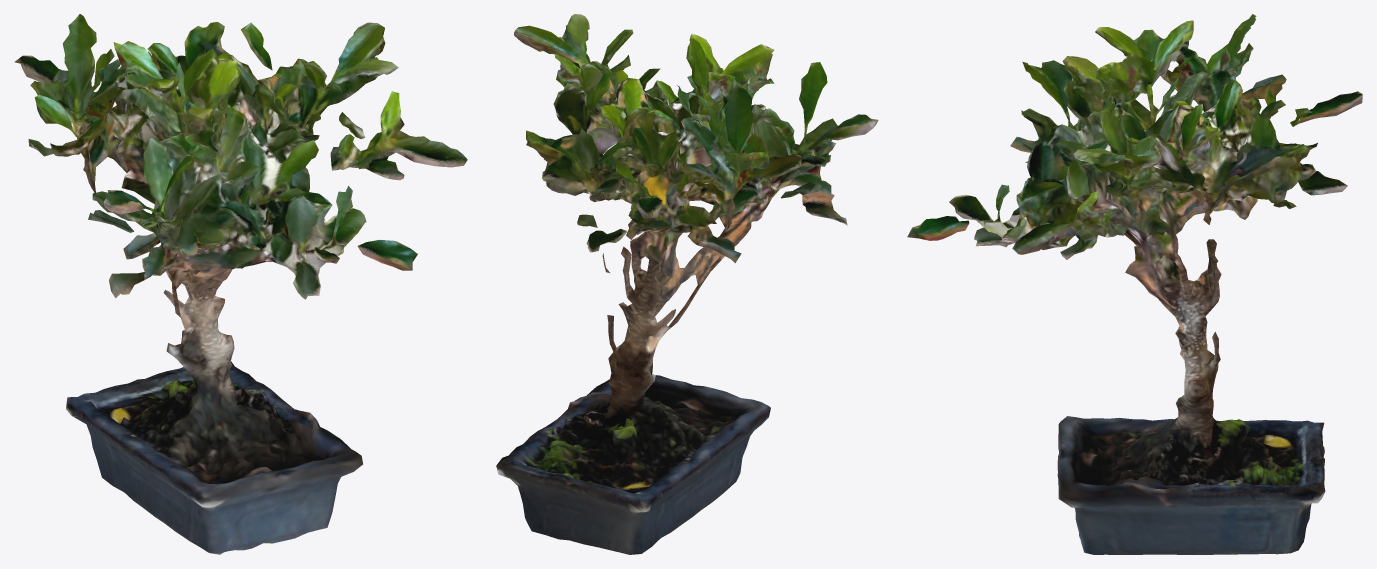
File: bonsai2.glb
3 views of the same model, side by side, from view 1: azimuth 30°, elevation 25°; view 2: azimuth 150°, elevation 25°; view 3: azimuth 270°, elevation 25° (orthographic). The views are drawn at different scales.
Parts seen in each view (by area): view 1: Object_4; view 2: Object_4; view 3: Object_4.
Part boxes in pixels (bbox=[...]): Object_4: bbox=[14, 14, 467, 554]; Object_4: bbox=[496, 14, 878, 554]; Object_4: bbox=[907, 14, 1362, 554].
Bounding box in the file's own units: 0.2109 × 0.2811 × 0.2495.
Materials: 1 (1 with a texture image).
